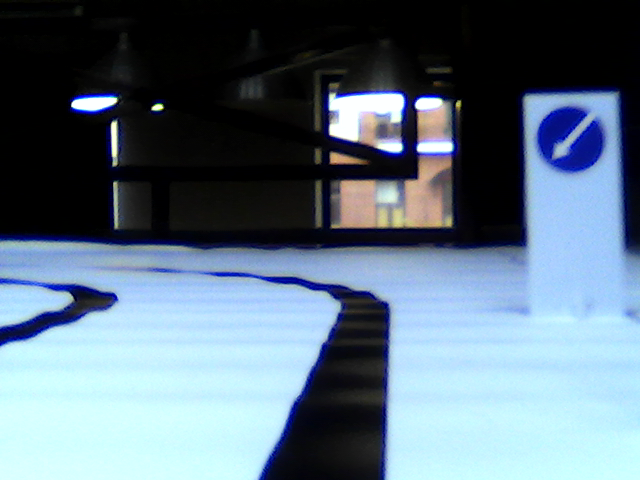prep: (533, 105, 604, 170)
